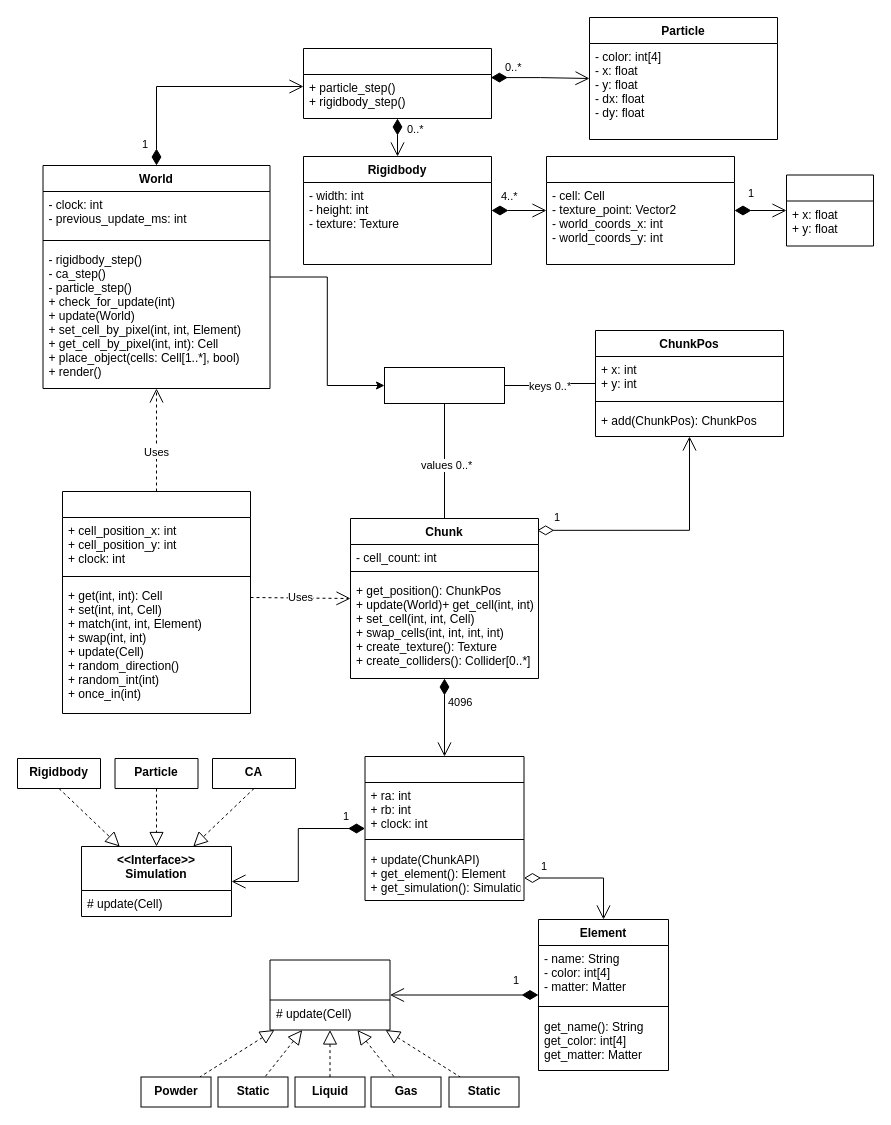
Image size: 891x1125. Some labels were removed from this diagram. The box of each missing label's shape, as (x1, y1, x2, y2) in pixels:
<<Interface>> Matter: (269, 959, 390, 1030)
Cell: (364, 756, 524, 900)
ChunkApi: (62, 490, 250, 714)
ChunkMap: (384, 366, 504, 404)
PhysicsEngine: (302, 48, 492, 118)
RigidbodyPoint: (546, 156, 734, 264)
Vector2: (786, 174, 874, 246)
